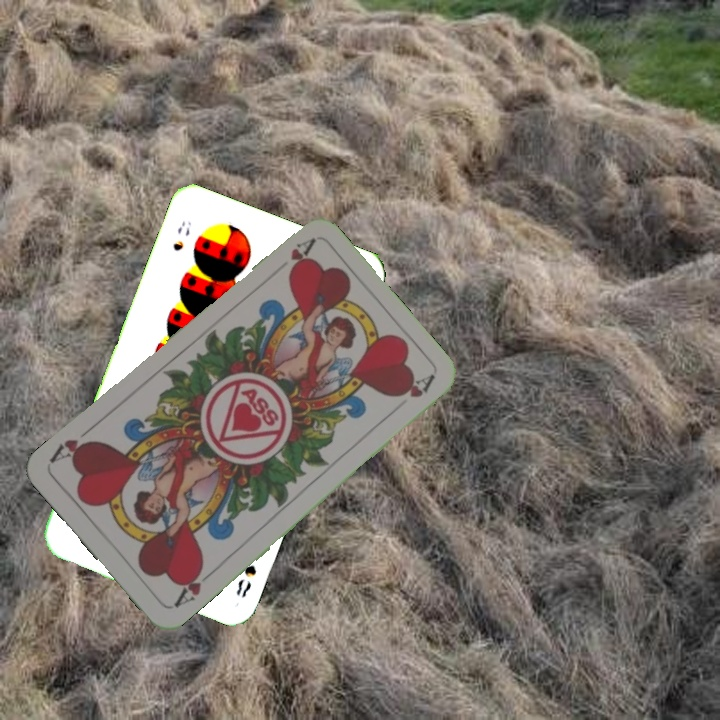HA: (169, 561, 217, 611), (283, 235, 317, 278)
S8: (231, 560, 259, 600), (169, 217, 194, 254)
